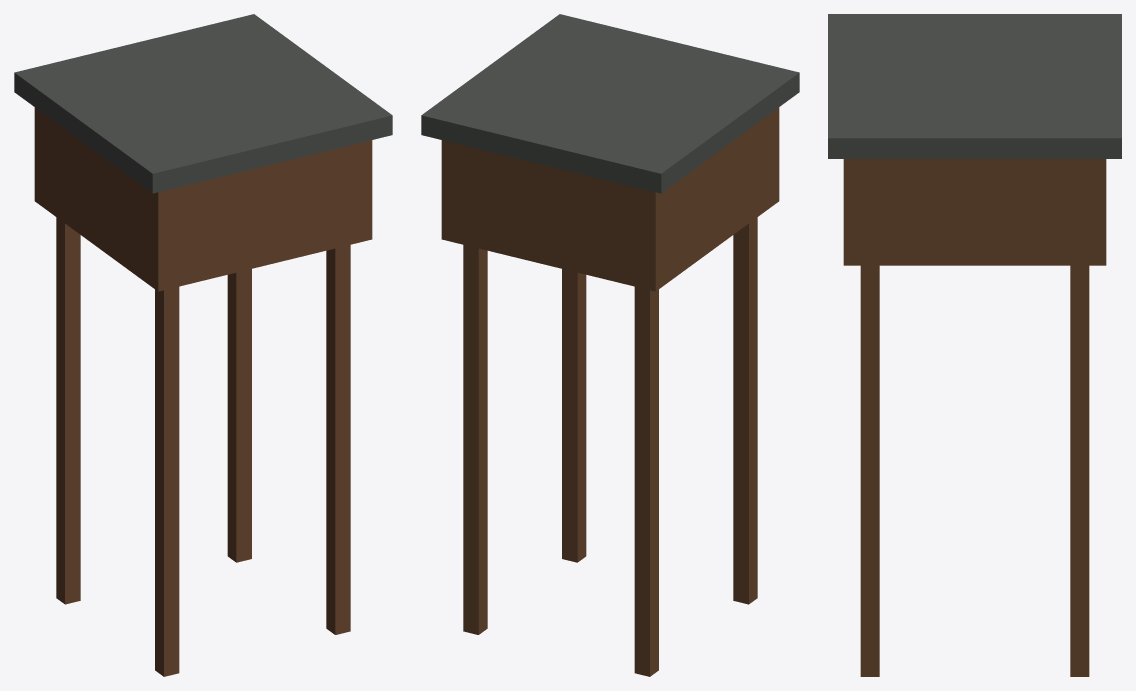
File: fire-lookout.source.glb
3 renders of one model, left to right at view 1: azimuth 30°, elevation 25°; view 2: azimuth 150°, elevation 25°; view 3: azimuth 270°, elevation 25°, orthographic. The views are drawn at different scales.
Visible parts, largest first — view 1: fire-lookout-roof-mesh, fire-lookout-cab-mesh, fire-lookout-leg--1-1-mesh, fire-lookout-leg-1-1-mesh, fire-lookout-leg--1--1-mesh, fire-lookout-leg-1--1-mesh; view 2: fire-lookout-roof-mesh, fire-lookout-cab-mesh, fire-lookout-leg--1--1-mesh, fire-lookout-leg-1--1-mesh, fire-lookout-leg--1-1-mesh, fire-lookout-leg-1-1-mesh; view 3: fire-lookout-roof-mesh, fire-lookout-cab-mesh, fire-lookout-leg-1--1-mesh, fire-lookout-leg-1-1-mesh.
Boxes of the visible parts, left/top/right/bottom form: fire-lookout-roof-mesh: left=14, top=14, right=392, bottom=193; fire-lookout-cab-mesh: left=34, top=107, right=372, bottom=291; fire-lookout-leg--1-1-mesh: left=155, top=286, right=179, bottom=676; fire-lookout-leg-1-1-mesh: left=326, top=245, right=350, bottom=634; fire-lookout-leg--1--1-mesh: left=56, top=217, right=80, bottom=604; fire-lookout-leg-1--1-mesh: left=227, top=269, right=251, bottom=562; fire-lookout-roof-mesh: left=421, top=14, right=799, bottom=193; fire-lookout-cab-mesh: left=441, top=107, right=779, bottom=291; fire-lookout-leg--1--1-mesh: left=634, top=286, right=658, bottom=676; fire-lookout-leg-1--1-mesh: left=463, top=245, right=487, bottom=634; fire-lookout-leg--1-1-mesh: left=733, top=217, right=757, bottom=604; fire-lookout-leg-1-1-mesh: left=562, top=269, right=586, bottom=562; fire-lookout-roof-mesh: left=828, top=14, right=1121, bottom=158; fire-lookout-cab-mesh: left=843, top=159, right=1106, bottom=265; fire-lookout-leg-1--1-mesh: left=1070, top=265, right=1089, bottom=676; fire-lookout-leg-1-1-mesh: left=860, top=265, right=879, bottom=676.
Bounding box in the file's own units: 2.8 × 5.81 × 2.8.
